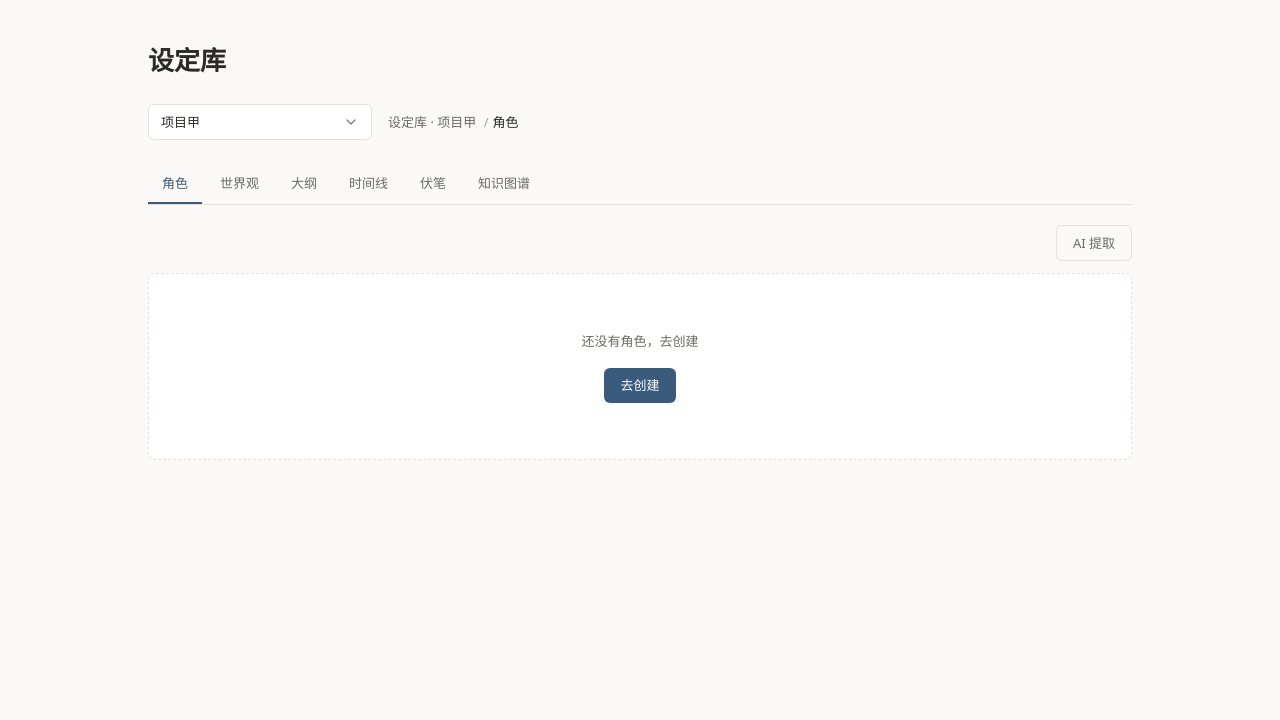
Test: #1529-A 实体多选：默认全选 + 未勾选统一灰显（不摘除） › N19① 默认全选：第 1 页实体行全部勾选，画布 12 节点全部 `data-dim="0"`
Step 1. Click the tab "知识图谱" → (504, 184), box [464, 164, 544, 204]
(page scrolled)
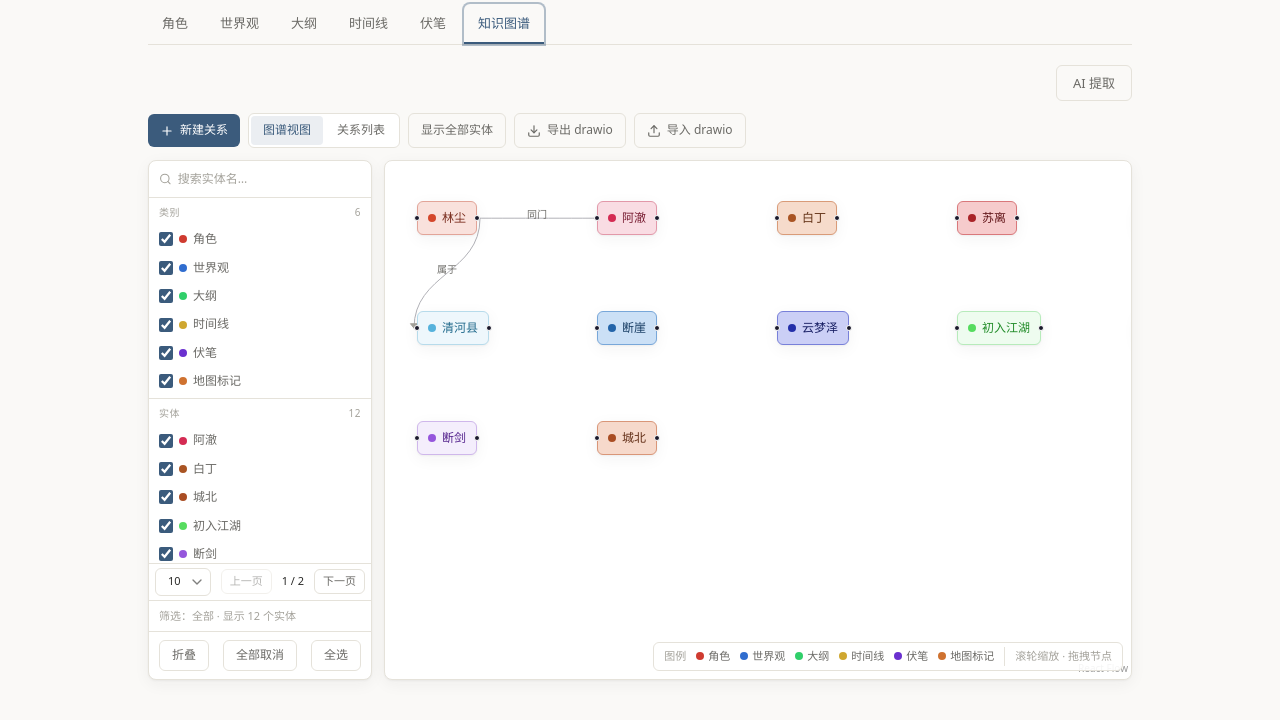
Expected: the element with test id "library-kg-canvas" is shown, [384, 160, 1132, 680]
Expected: the element with test id "library-kg-node-character-c1" is shown, [417, 201, 477, 235]
Expected: the element with test id "library-kg-node-character-c2" is shown, [597, 201, 657, 235]
